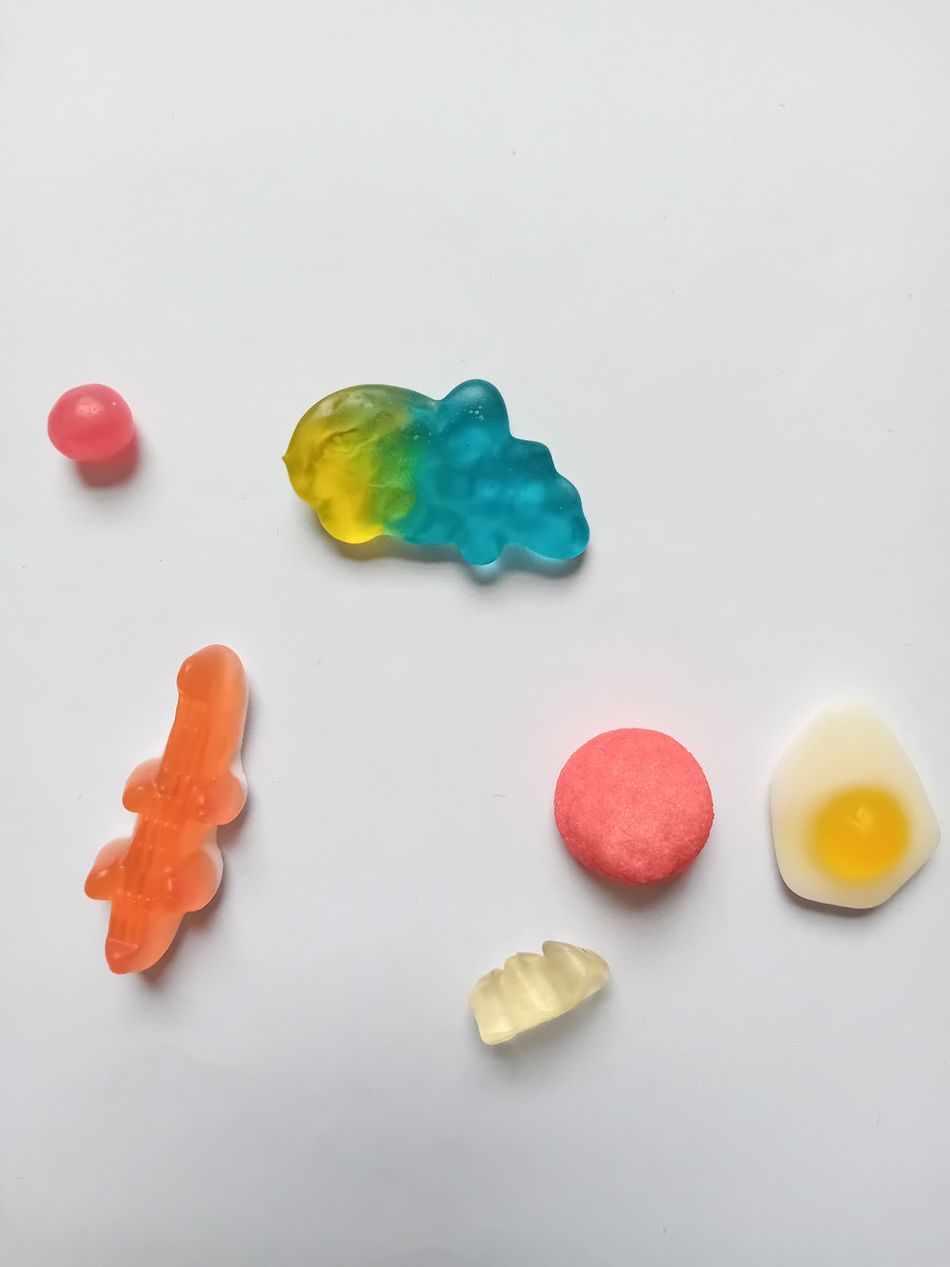crocodile_orange: (81, 639, 261, 981)
dragibus_rouge: (41, 374, 142, 464)
oeuf_oeuf: (761, 696, 943, 918)
ourson_blanc: (459, 938, 617, 1051)
schtroumpf_bleu-jaune: (270, 365, 596, 581)
tagada_fraise: (540, 722, 716, 898)
